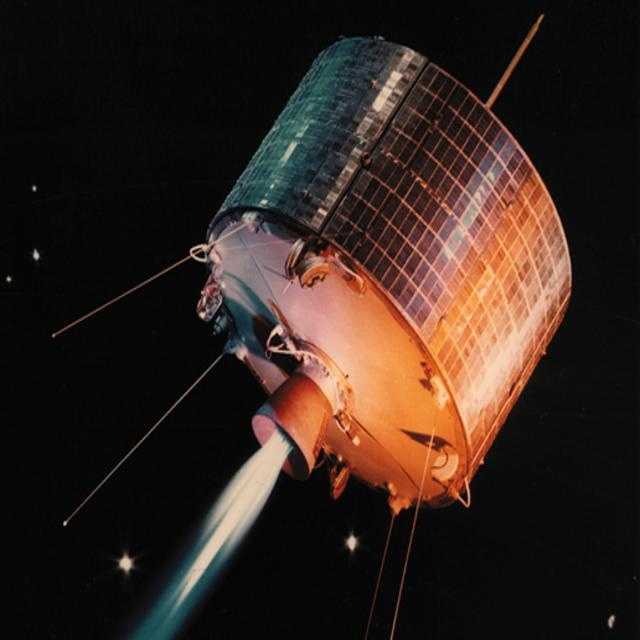large_debris: (109, 538, 139, 585), (339, 527, 364, 563), (603, 600, 624, 640), (27, 244, 41, 272), (28, 181, 36, 197), (5, 270, 11, 286)
medium_debris: (47, 4, 594, 640)
